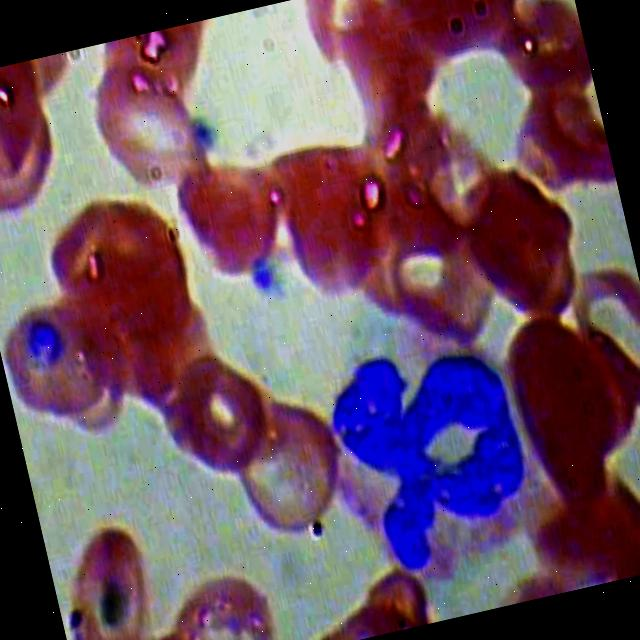Platelets: (240, 250, 284, 300)
RBC: (29, 173, 208, 371), (491, 304, 634, 525), (255, 126, 414, 312), (450, 157, 600, 341), (74, 49, 228, 215), (217, 388, 358, 552), (159, 138, 301, 291), (0, 286, 131, 438), (41, 515, 181, 640), (156, 349, 278, 492), (554, 252, 640, 426), (487, 0, 599, 125), (377, 0, 537, 82), (153, 558, 281, 640), (0, 57, 65, 194)
WBC: (288, 300, 570, 606)
